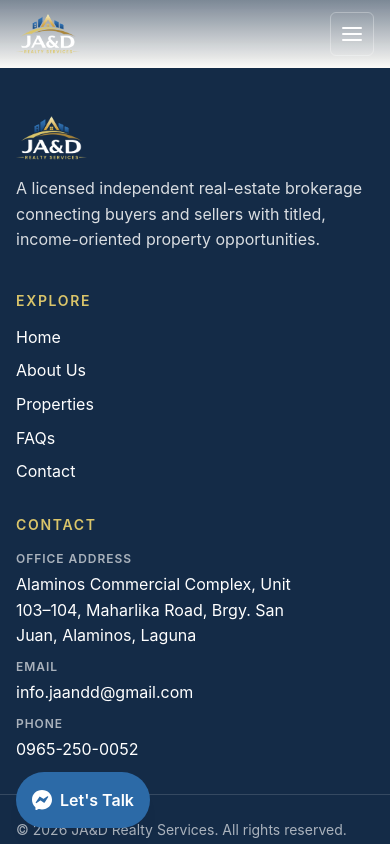
PublicLayout › renders skip link and footer; navigation renders after opening the menu
What coordinates should you click on to do the following:
click the button named "Open navigation"
I would click on:
 (352, 34)
Its box is [330, 12, 374, 56].
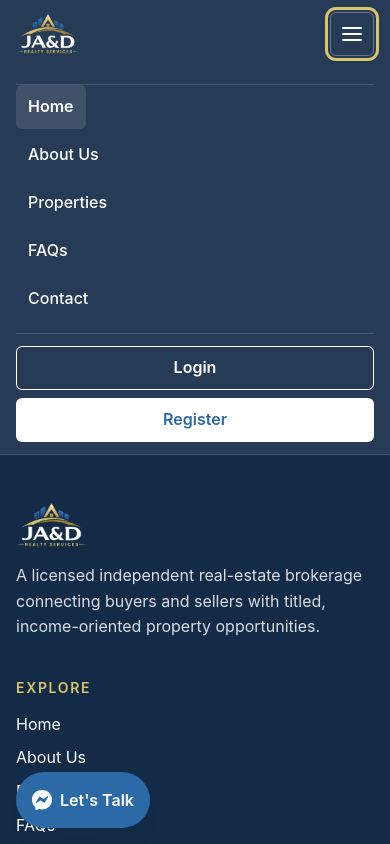
Expected: the 1st link "Home" is shown, [16, 85, 86, 129]
Expected: the 1st link "About Us" is shown, [28, 144, 99, 164]
Expected: the link "Properties" is shown, [28, 192, 107, 212]
